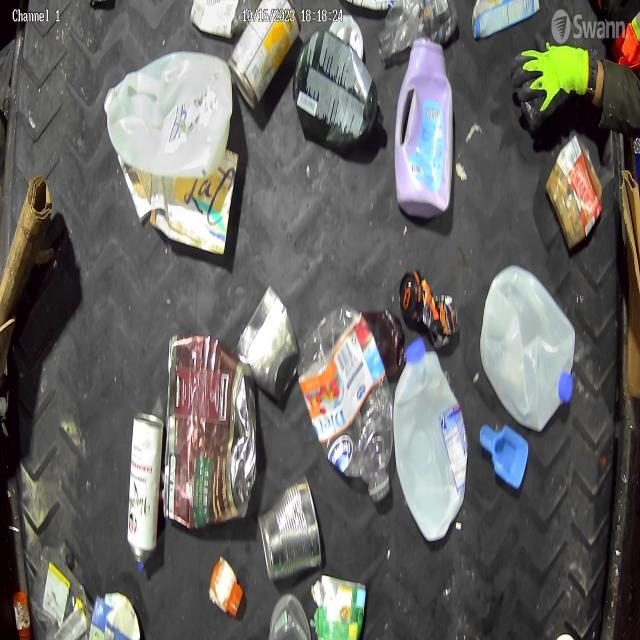can: (164, 332, 258, 532), (227, 0, 302, 111), (238, 288, 302, 401), (260, 474, 322, 582), (126, 410, 166, 572), (321, 573, 368, 640)
milk_jug: (479, 263, 576, 433), (104, 52, 232, 178), (392, 338, 469, 544)
non_white_jug: (394, 35, 454, 222), (294, 28, 379, 156)
plastic_bottle: (298, 304, 396, 500)
